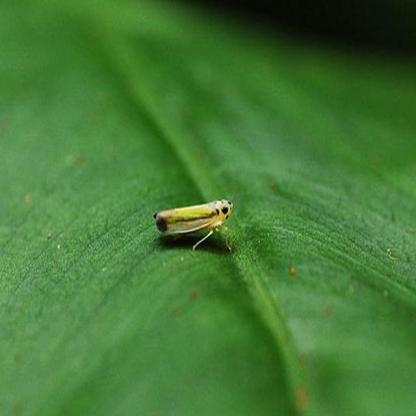green-leafhopper: (154, 196, 233, 249)
